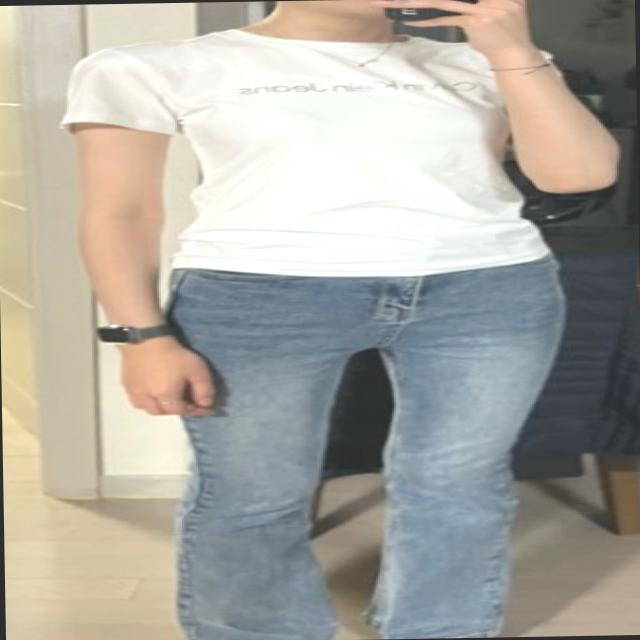denimpants: (161, 254, 575, 640)
shortsleeve: (54, 23, 572, 282)
